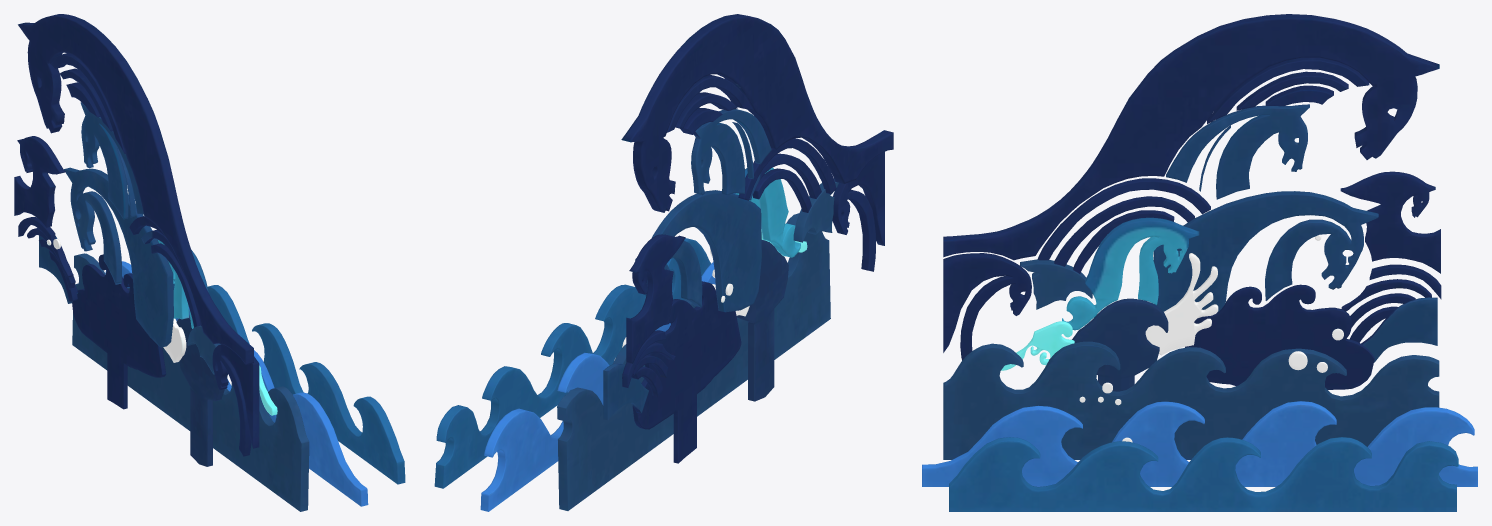
The model's file is horses.glb.
3 views of the same model, side by side, from view 1: azimuth 30°, elevation 25°; view 2: azimuth 150°, elevation 25°; view 3: azimuth 270°, elevation 25° (orthographic). The views are drawn at different scales.
Visible parts, largest first — view 1: w6, w5, w3, w1, w4, w2; view 2: w6, w5, w3, w1, w2, w4; view 3: w6, w3, w1, w5, w2, w4.
Boxes of the visible parts, x1=… form: w6: x1=14, y1=14, x2=259, y2=456; w5: x1=39, y1=167, x2=173, y2=409; w3: x1=72, y1=253, x2=309, y2=511; w1: x1=173, y1=280, x2=405, y2=484; w4: x1=157, y1=239, x2=224, y2=466; w2: x1=105, y1=261, x2=368, y2=506; w6: x1=621, y1=14, x2=893, y2=397; w5: x1=603, y1=190, x2=761, y2=463; w3: x1=557, y1=213, x2=830, y2=510; w1: x1=434, y1=238, x2=711, y2=488; w2: x1=480, y1=262, x2=715, y2=511; w4: x1=710, y1=167, x2=800, y2=401; w6: x1=943, y1=14, x2=1441, y2=360; w3: x1=943, y1=321, x2=1439, y2=459; w1: x1=949, y1=437, x2=1458, y2=511; w5: x1=1153, y1=191, x2=1437, y2=389; w2: x1=922, y1=401, x2=1477, y2=486; w4: x1=1062, y1=217, x2=1218, y2=391.
Bounding box in the file's own units: 0.485 × 0.9515 × 1.15.
1 material, 1 textured.
